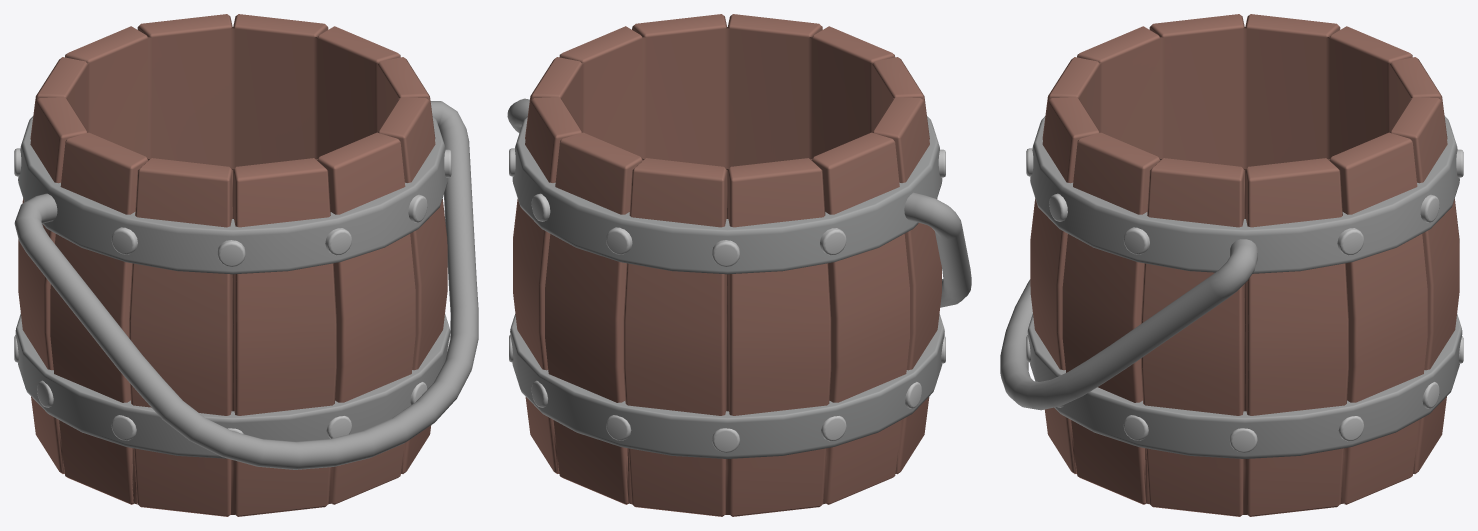
The model's file is Farm_16_Bucket_1.glb.
3 renders of one model, left to right at view 1: azimuth 30°, elevation 25°; view 2: azimuth 150°, elevation 25°; view 3: azimuth 270°, elevation 25°, orthographic.
Parts seen in each view (by area): view 1: Farm_16_Bucket_1; view 2: Farm_16_Bucket_1; view 3: Farm_16_Bucket_1.
Boxes of the visible parts, left/top/right/bottom form: Farm_16_Bucket_1: left=14, top=14, right=478, bottom=516; Farm_16_Bucket_1: left=507, top=14, right=971, bottom=516; Farm_16_Bucket_1: left=1000, top=14, right=1463, bottom=516.
Bounding box in the file's own units: 0.7631 × 0.5556 × 0.6873.
Materials: 1 (1 with a texture image).
